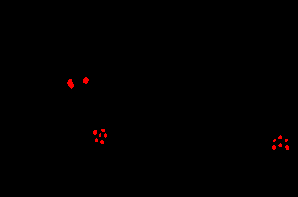Target: (67, 79, 74, 89), (83, 77, 89, 84), (93, 130, 97, 135), (272, 145, 276, 150), (285, 145, 289, 150), (278, 135, 282, 139), (100, 140, 104, 144), (278, 143, 282, 147), (104, 133, 107, 138), (101, 129, 105, 132), (95, 138, 98, 142), (273, 139, 276, 142), (285, 139, 288, 142), (99, 133, 101, 137)
